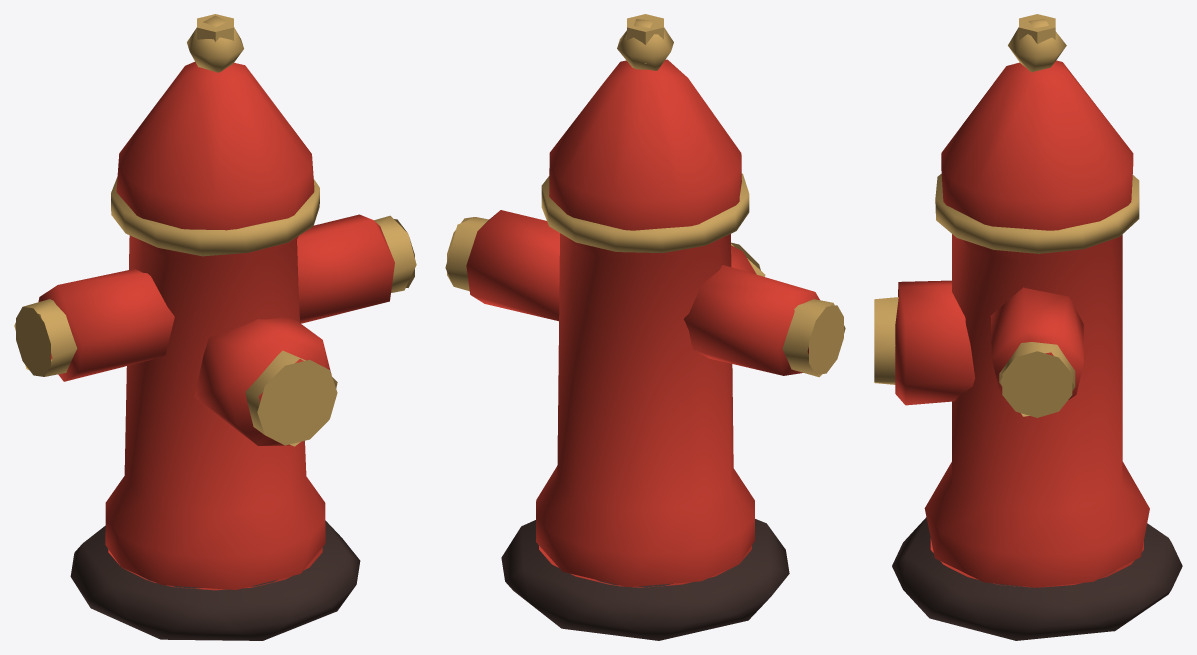
The model's file is lod_fire_hydrant.glb.
3 renders of one model, left to right at view 1: azimuth 30°, elevation 25°; view 2: azimuth 150°, elevation 25°; view 3: azimuth 270°, elevation 25°, orthographic.
Visible parts, largest first — view 1: fire_hydrant; view 2: fire_hydrant; view 3: fire_hydrant.
Part boxes in pixels (bbox=[...]): fire_hydrant: bbox=[14, 14, 416, 640]; fire_hydrant: bbox=[445, 14, 845, 640]; fire_hydrant: bbox=[874, 14, 1182, 640].
Bounding box in the file's own units: 0.59 × 0.8796 × 0.4351.
